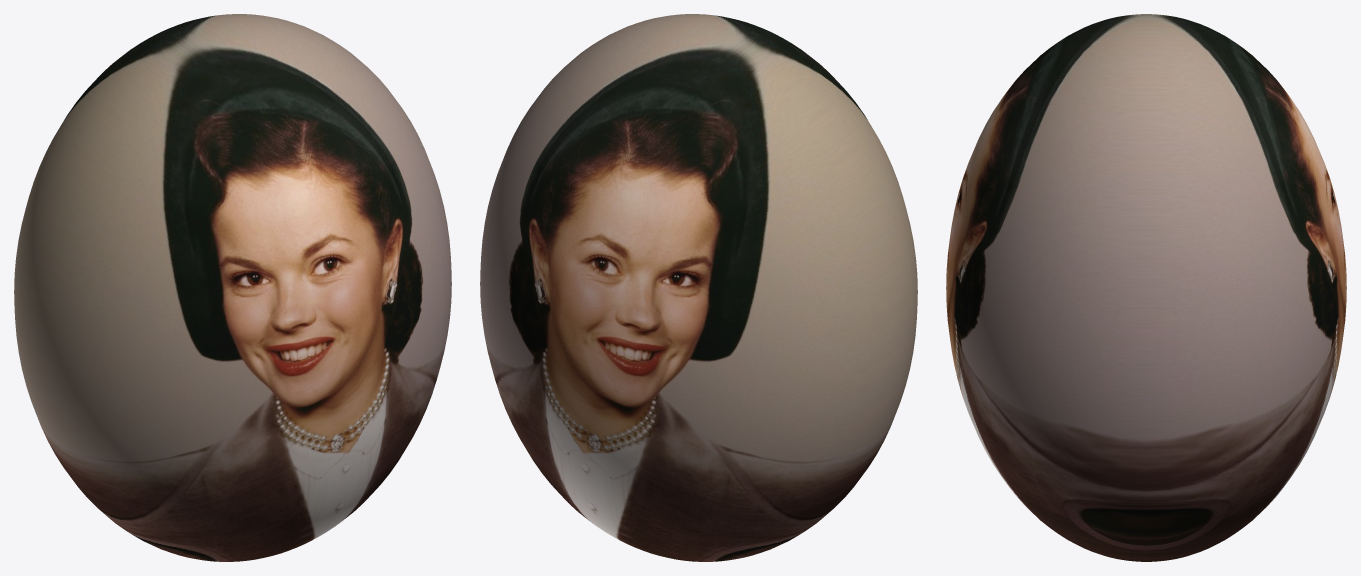
The picture shows the model from 3 angles, left to right: view 1: azimuth 30°, elevation 25°; view 2: azimuth 150°, elevation 25°; view 3: azimuth 270°, elevation 25°; orthographic projection.
Visible parts, largest first — view 1: head; view 2: head; view 3: head.
Part boxes in pixels (x1,y1,x2,y2): head: (14, 14, 451, 561); head: (480, 14, 917, 561); head: (946, 14, 1346, 561).
Bounding box in the file's own units: 1.57 × 2 × 1.41.
1 material, 1 textured.
